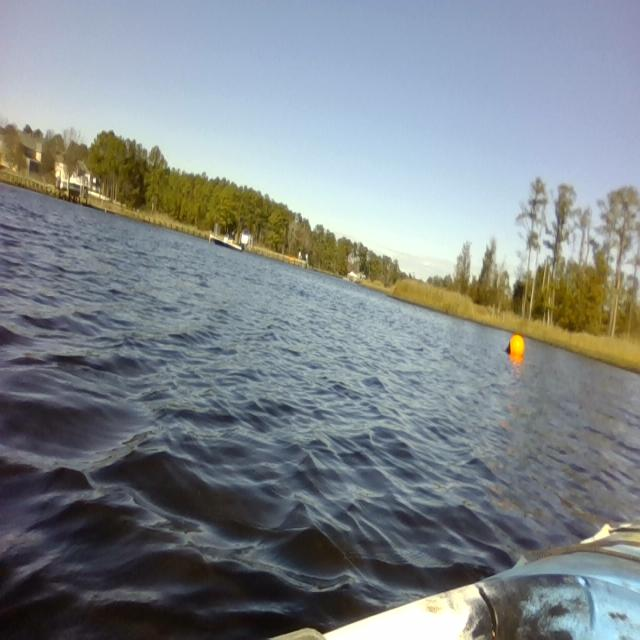Buoy: (506, 329, 526, 365)
